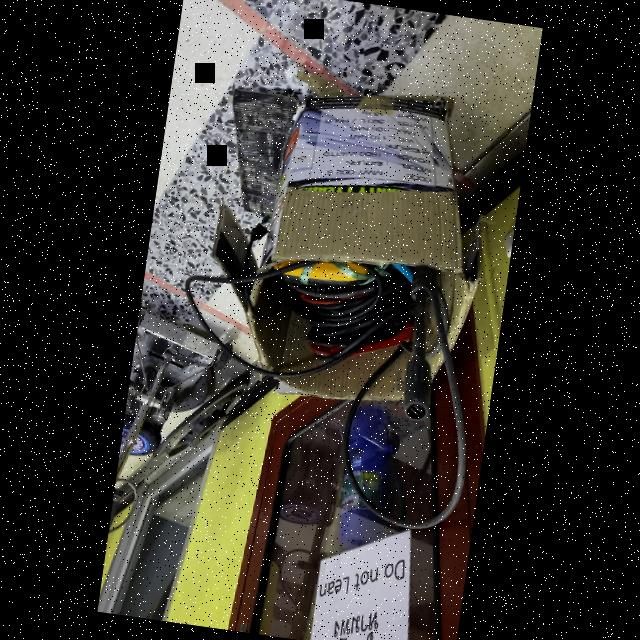cardboard_box: (227, 68, 496, 426)
